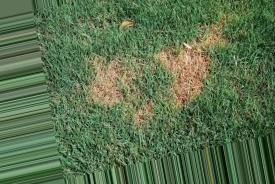patch: (168, 50, 204, 88), (96, 61, 120, 105)
